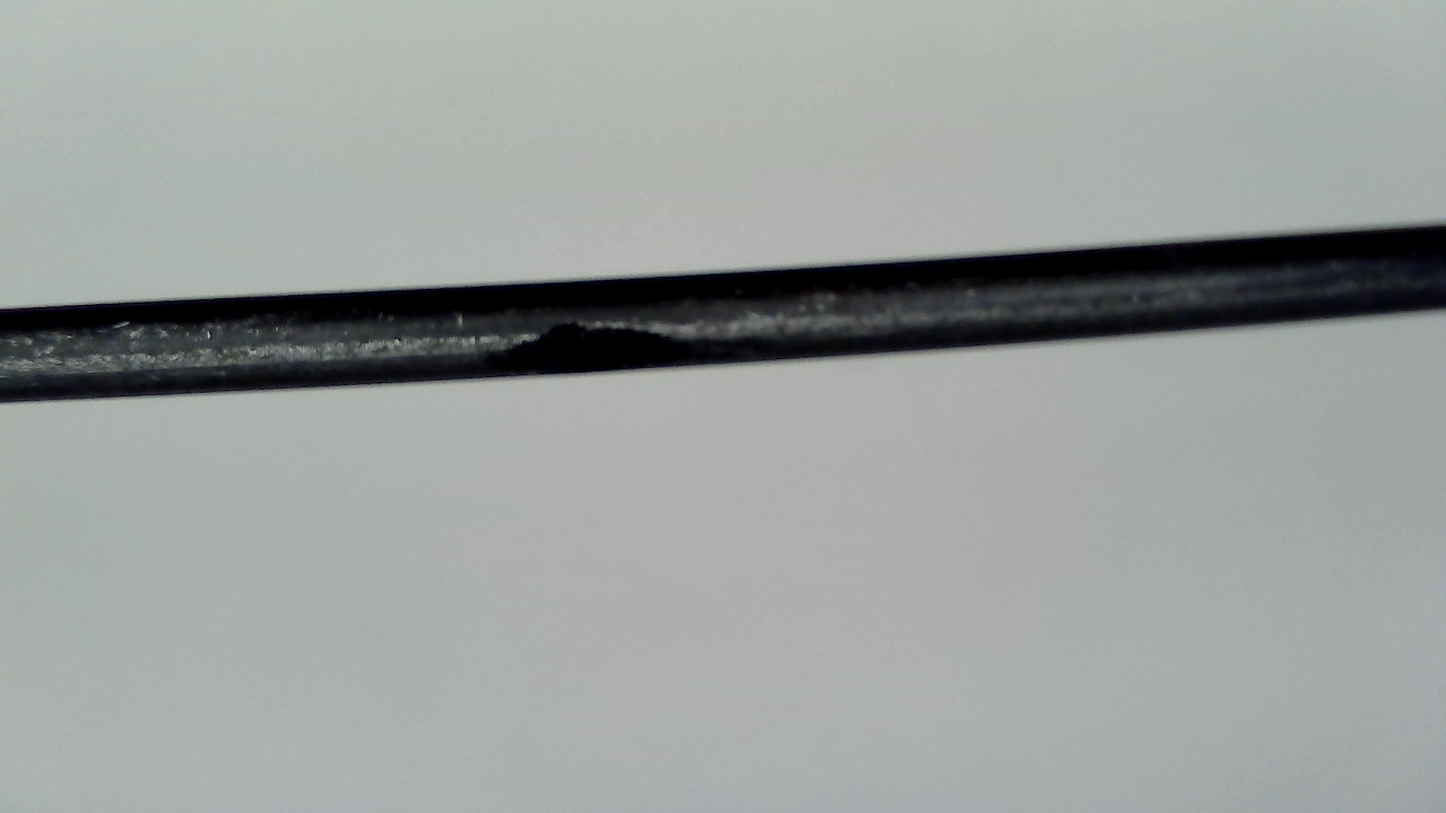defect: (465, 318, 746, 374)
